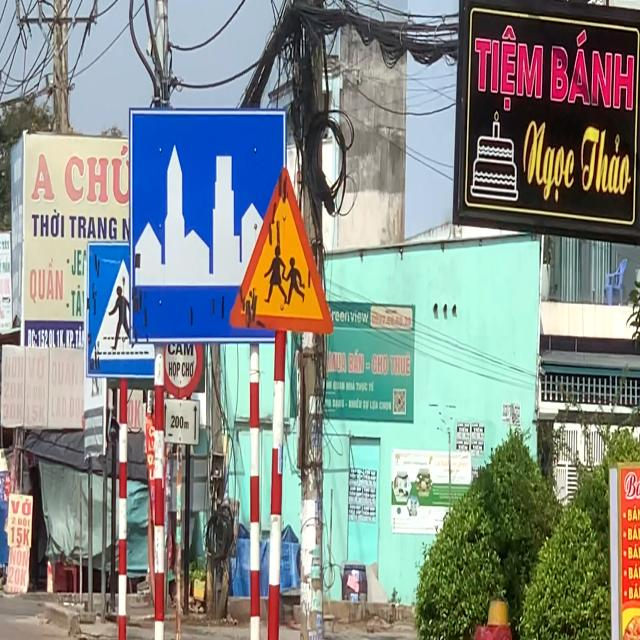W.225: (225, 160, 338, 341)
